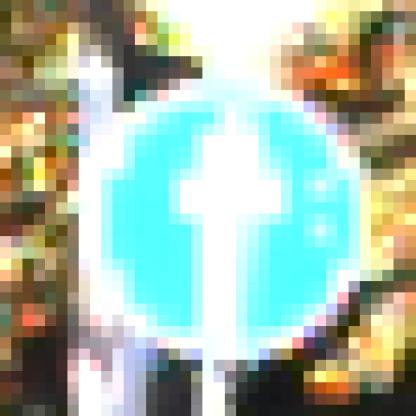AheadOnly: (68, 68, 361, 361)
